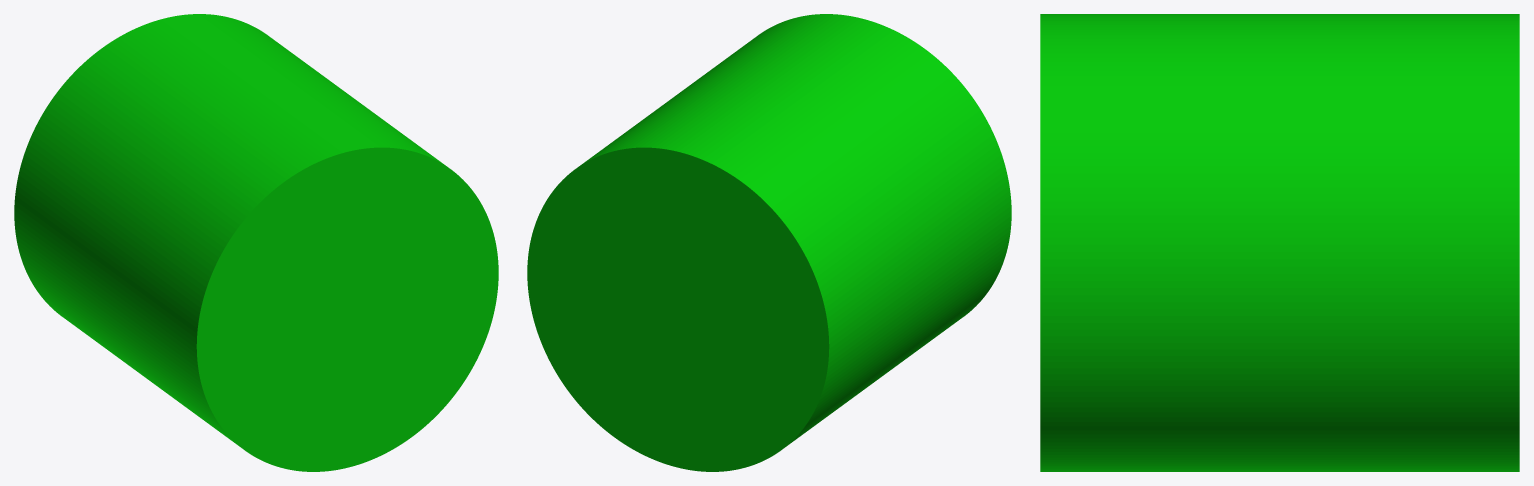
File: plane bend161.obj
3 views of the same model, side by side, from view 1: azimuth 30°, elevation 25°; view 2: azimuth 150°, elevation 25°; view 3: azimuth 270°, elevation 25° (orthographic). The views are drawn at different scales.
Visible parts, largest first — view 1: Plane, Circle; view 2: Plane, Circle.001, Circle; view 3: Plane, Circle.
Part boxes in pixels (box(x1,y1,x2,y2)): Plane: box(14, 14, 445, 446); Circle: box(196, 147, 498, 471); Plane: box(580, 14, 1010, 446); Circle.001: box(527, 147, 829, 471); Circle: box(767, 14, 1011, 315); Plane: box(1040, 14, 1519, 471); Circle: box(1040, 14, 1042, 471).
Size of the model in its own units: 1.91 by 1.91 by 2.
